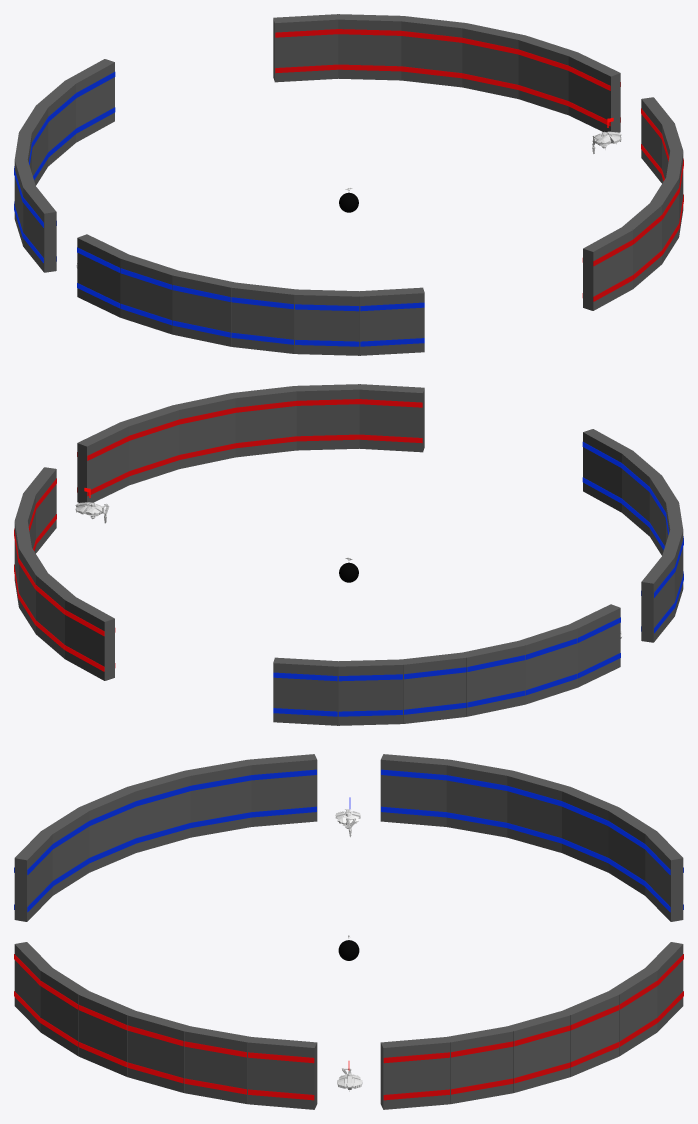
File: arena-prop.glb
3 renders of one model, top to bottom at view 1: azimuth 30°, elevation 25°; view 2: azimuth 150°, elevation 25°; view 3: azimuth 270°, elevation 25°, orthographic. The views are drawn at different scales.
Visible parts, largest first — view 1: RingPart.018, RingPart.007, RingPart.011, RingPart.032; view 2: RingPart.011, RingPart.032, RingPart.007, RingPart.018; view 3: RingPart.007, RingPart.011, RingPart.018, RingPart.032.
Part boxes in pixels (x1,y1,x2,y2): RingPart.018: (77, 234, 424, 355); RingPart.007: (273, 14, 620, 132); RingPart.011: (14, 59, 115, 272); RingPart.032: (582, 97, 683, 310); RingPart.011: (273, 604, 620, 725); RingPart.032: (77, 384, 424, 502); RingPart.007: (14, 467, 115, 680); RingPart.018: (582, 429, 683, 642); RingPart.007: (380, 942, 683, 1109); RingPart.011: (380, 754, 683, 921); RingPart.018: (14, 754, 317, 921); RingPart.032: (14, 942, 317, 1109).
Size of the model in its own units: 102 by 10 by 98.21.
